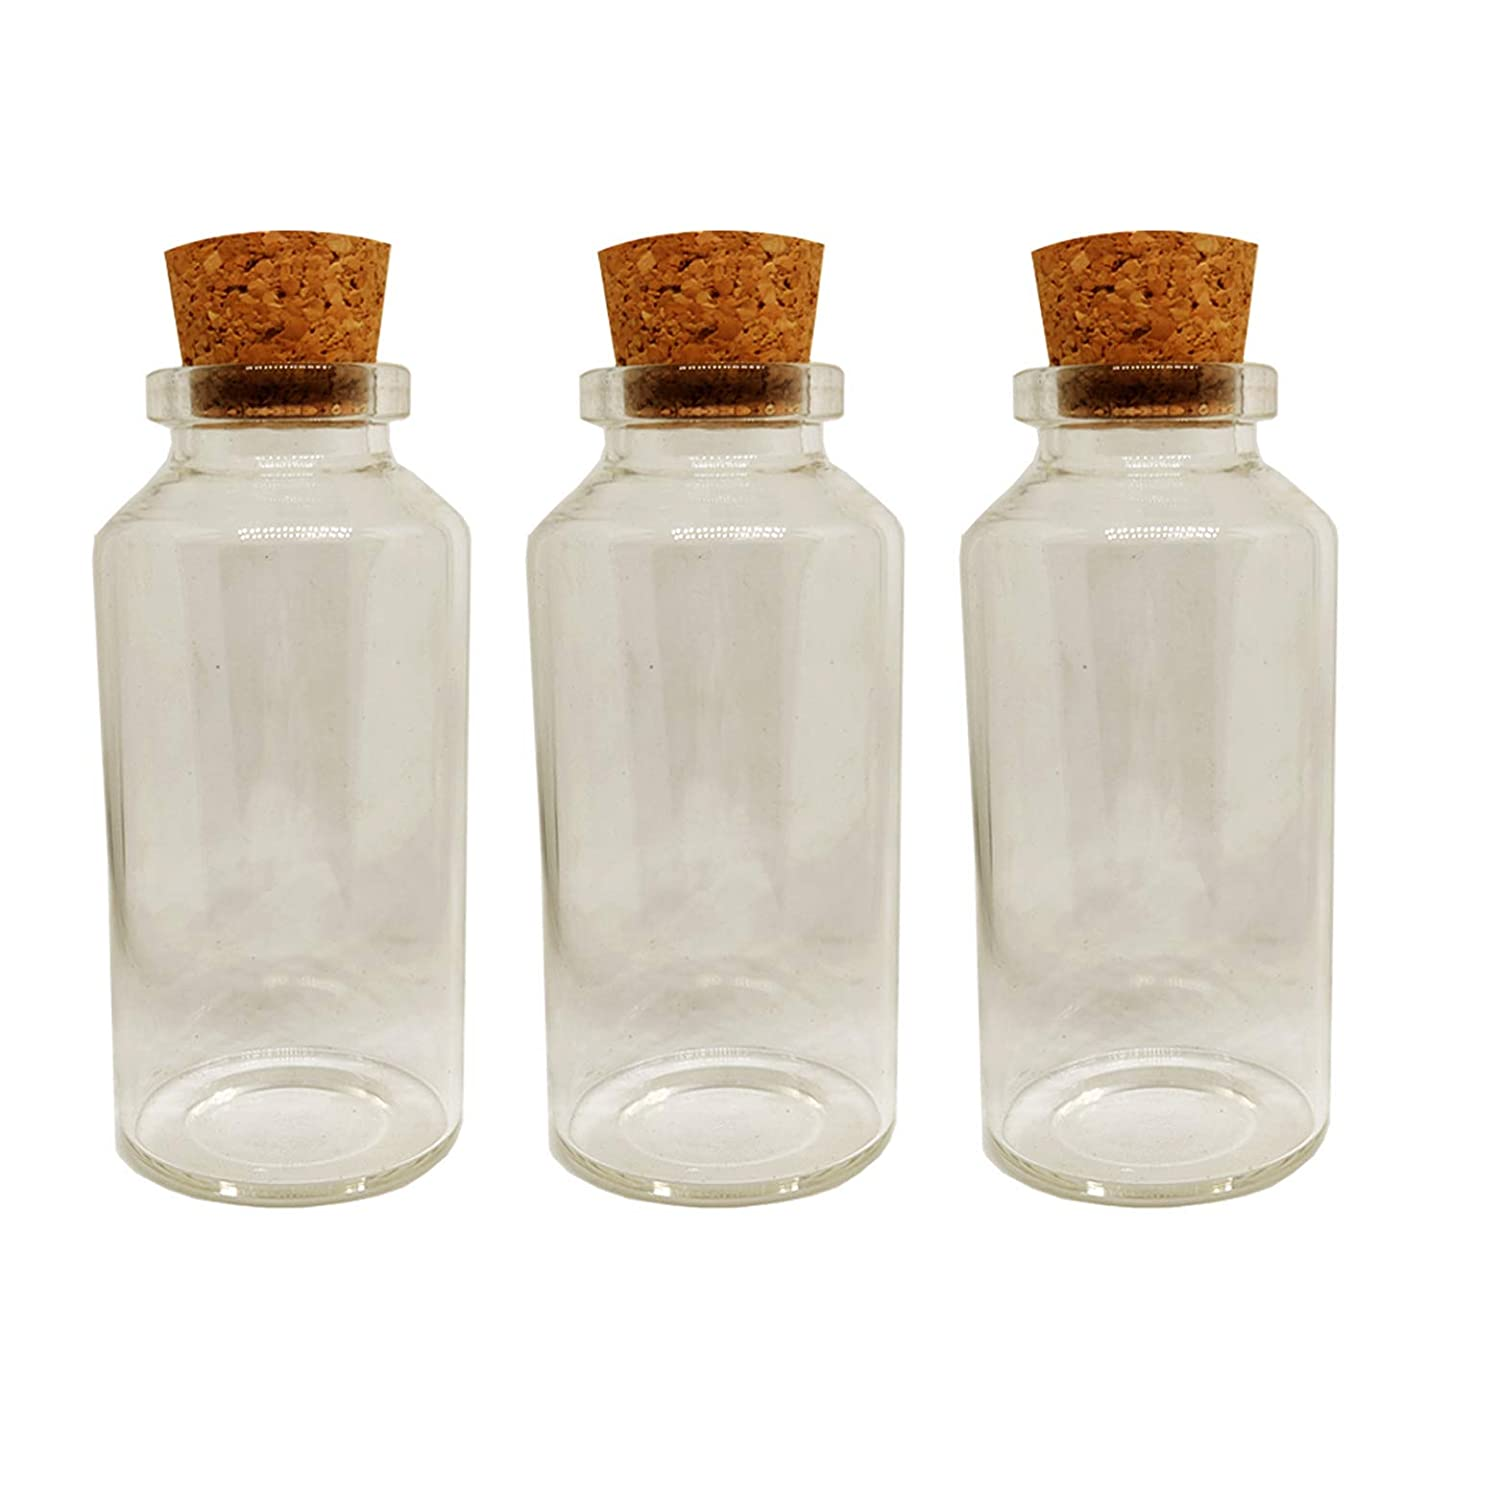glass_bottle: (505, 223, 909, 1217), (82, 223, 479, 1217), (964, 220, 1345, 1216)
